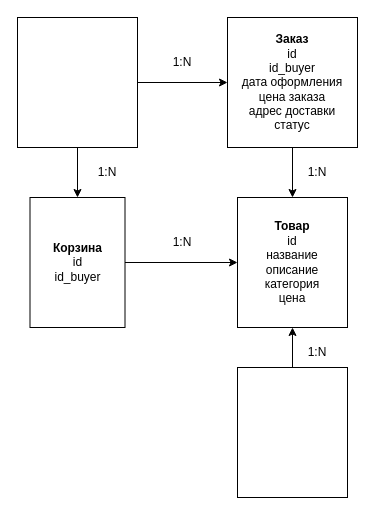
Image size: 375x515. Some labels were removed from this diagram. The centre of each missing label's shape, as x and y in pixels:
Категория id название описание: [292,432]
Покупатель id личные данные контактные данные адрес доставки: [77,82]
